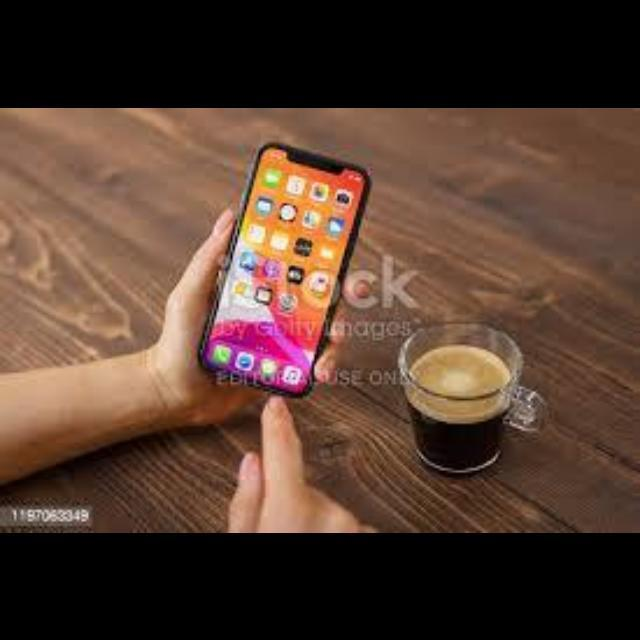PhoneUse: (197, 142, 371, 398)
